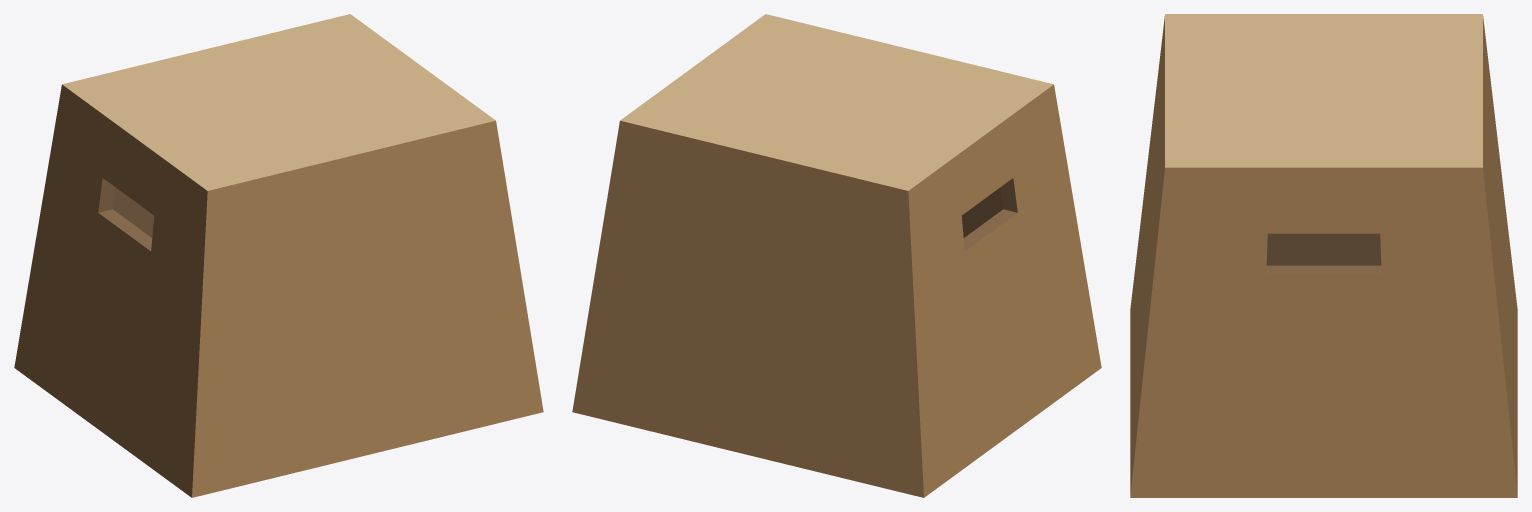
3 views of the same model, side by side, from view 1: azimuth 30°, elevation 25°; view 2: azimuth 150°, elevation 25°; view 3: azimuth 270°, elevation 25° (orthographic). The views are drawn at different scales.
Parts seen in each view (by area): view 1: WholeWeldedTaperedBoxWithHandApertures; view 2: WholeWeldedTaperedBoxWithHandApertures; view 3: WholeWeldedTaperedBoxWithHandApertures.
Part boxes in pixels (x1=…): WholeWeldedTaperedBoxWithHandApertures: x1=14, y1=14, x2=543, y2=497; WholeWeldedTaperedBoxWithHandApertures: x1=572, y1=14, x2=1101, y2=497; WholeWeldedTaperedBoxWithHandApertures: x1=1130, y1=14, x2=1517, y2=497.
Size of the model in its own units: 0.64 by 0.5 by 0.56.
